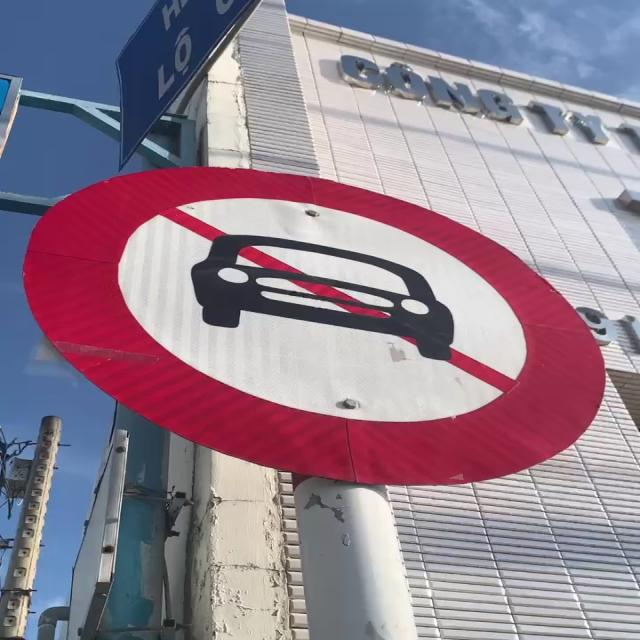Cam_O_To: (28, 166, 610, 482)
